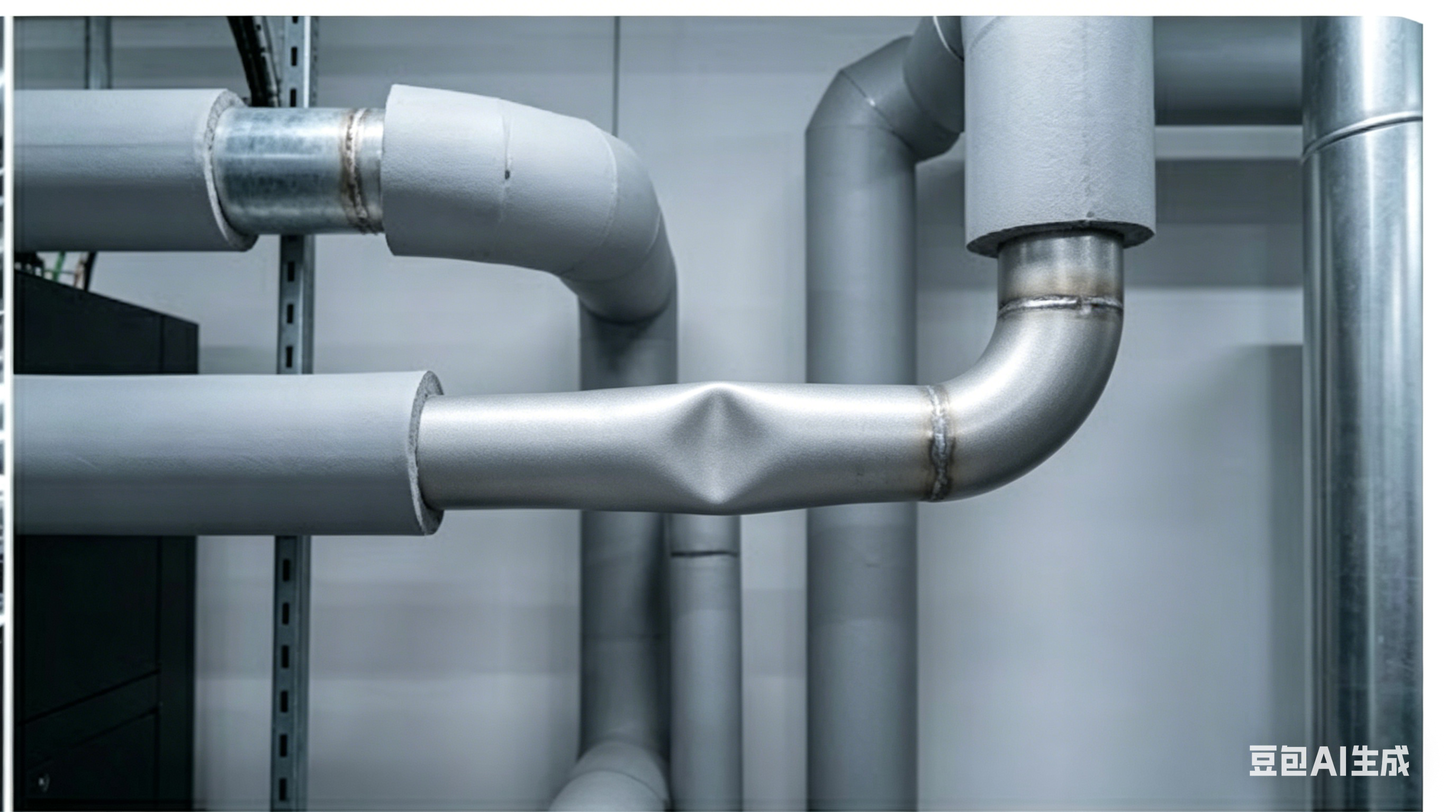Leakage: (663, 387, 793, 521)
